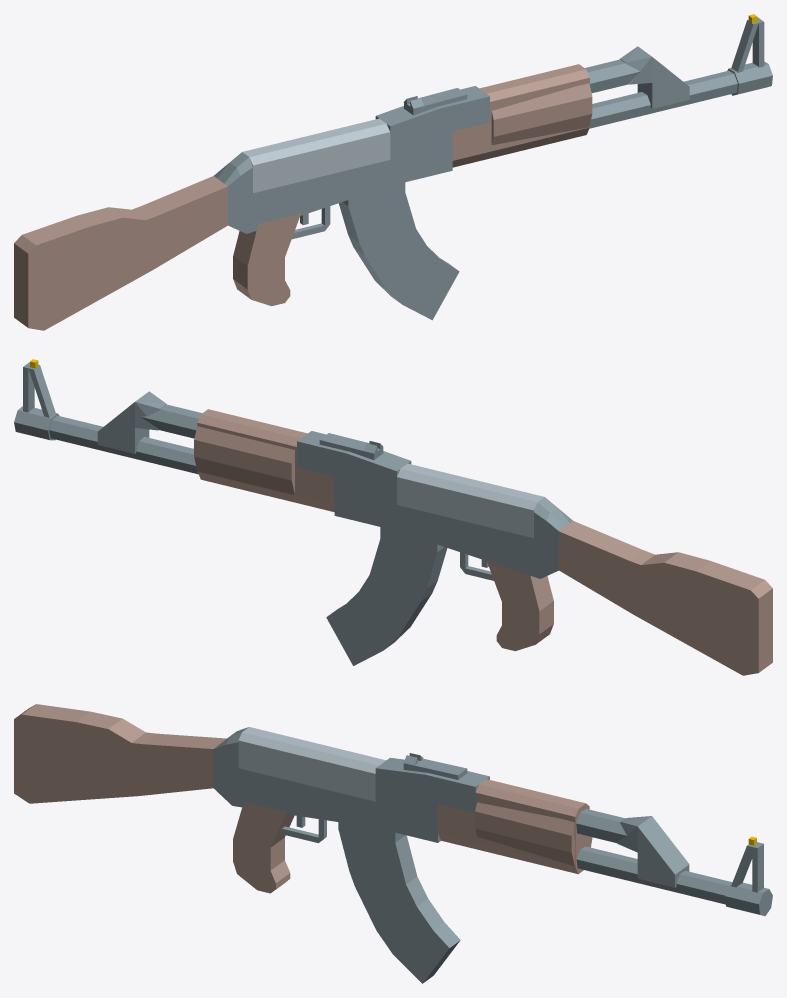
Rendered from _dl_ak47_adamkokrito.glb.
3 views of the same model, one above another, from view 1: azimuth 30°, elevation 25°; view 2: azimuth 150°, elevation 25°; view 3: azimuth 330°, elevation 25° (orthographic).
Parts seen in each view (by area): view 1: group894743592, group1410188817, group1177229705, group718510305, group951975184, group1386762986, group1426686300, group1053467447, group446033189, group1765499665, group551045884, group366358842 (+8 smaller); view 2: group894743592, group1410188817, group1177229705, group718510305, group951975184, group95494493, group1386762986, group1053467447, group446033189, group1765499665, group551045884, group366358842 (+8 smaller); view 3: group894743592, group1410188817, group1177229705, group718510305, group951975184, group1386762986, group1426686300, group1053467447, group1765499665, group551045884, group446033189, group1439407865 (+8 smaller).
Part boxes in pixels (<box>): group894743592: <box>14,205,166,330</box>; group1410188817: <box>339,182,459,320</box>; group1177229705: <box>242,118,390,193</box>; group718510305: <box>228,160,390,233</box>; group951975184: <box>144,176,227,269</box>; group1386762986: <box>233,213,300,306</box>; group1426686300: <box>491,83,592,144</box>; group1053467447: <box>589,70,737,128</box>; group446033189: <box>390,131,452,185</box>; group1765499665: <box>452,122,589,167</box>; group551045884: <box>479,64,589,122</box>; group366358842: <box>375,106,439,146</box>; group894743592: <box>629,550,772,675</box>; group1410188817: <box>326,527,447,665</box>; group1177229705: <box>397,463,544,538</box>; group718510305: <box>397,505,558,578</box>; group951975184: <box>559,521,642,614</box>; group95494493: <box>194,426,294,495</box>; group1386762986: <box>486,558,553,651</box>; group1053467447: <box>49,415,198,474</box>; group446033189: <box>334,477,396,530</box>; group1765499665: <box>198,467,334,512</box>; group551045884: <box>197,409,307,467</box>; group366358842: <box>347,451,411,491</box>; group894743592: <box>14,704,157,803</box>; group1410188817: <box>338,822,460,983</box>; group1177229705: <box>238,727,385,801</box>; group718510305: <box>213,762,375,827</box>; group951975184: <box>138,733,226,795</box>; group1386762986: <box>233,802,294,893</box>; group1426686300: <box>475,802,574,867</box>; group1053467447: <box>576,846,732,904</box>; group1765499665: <box>438,804,589,874</box>; group551045884: <box>475,779,589,837</box>; group446033189: <box>375,789,440,842</box>; group1439407865: <box>637,816,689,887</box>.
Bounding box in the file's own units: 1.37 × 0.3909 × 0.0662.
